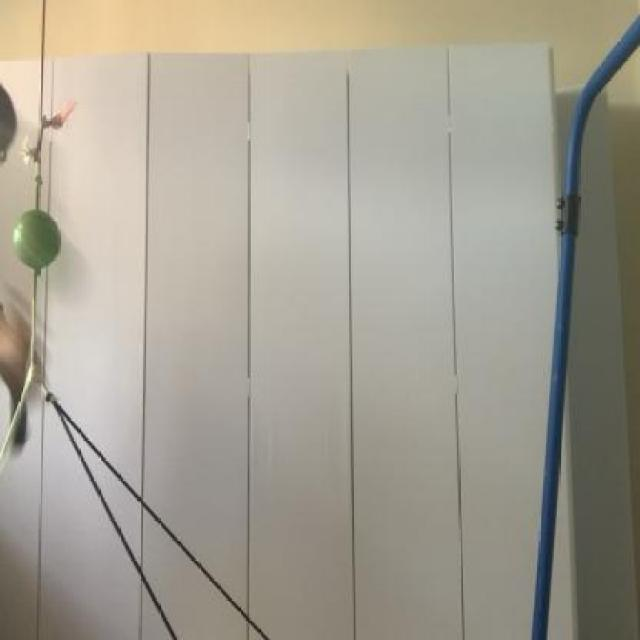baseball: (5, 208, 70, 284)
